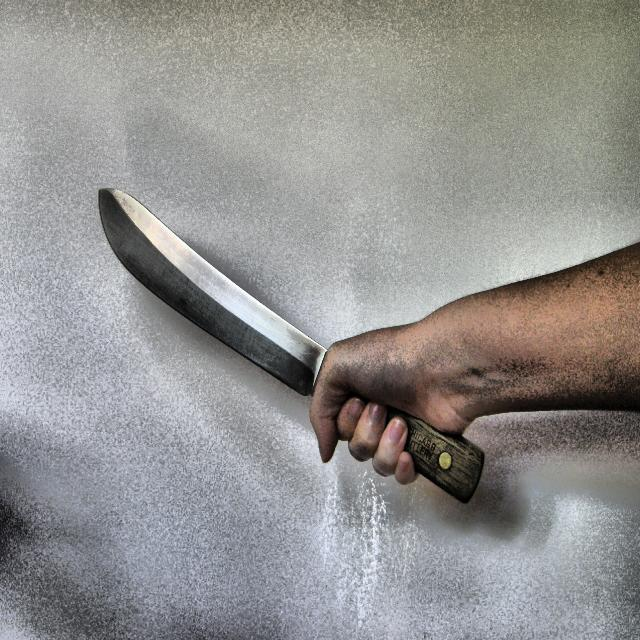knife: (99, 190, 484, 502)
